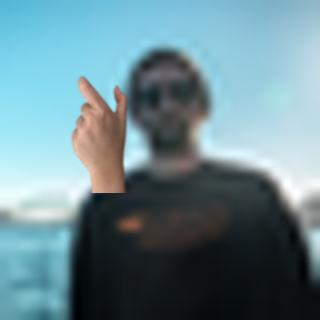Irritated: (65, 66, 130, 186)
